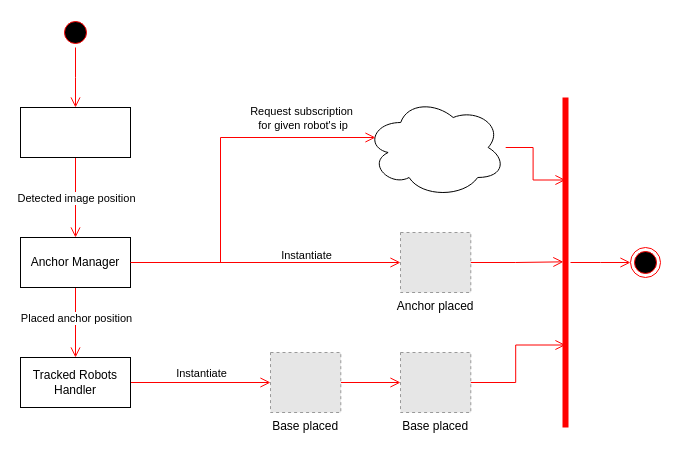
The diagram is 678 pixels wide and 451 high, and some of its shapes have lost their labels. Grey dashed boxes stand in for pictures. Each missing label, with the centre of its shape:
Mutable Image Recognizer: point 75,132
WebSocket: point 435,147
